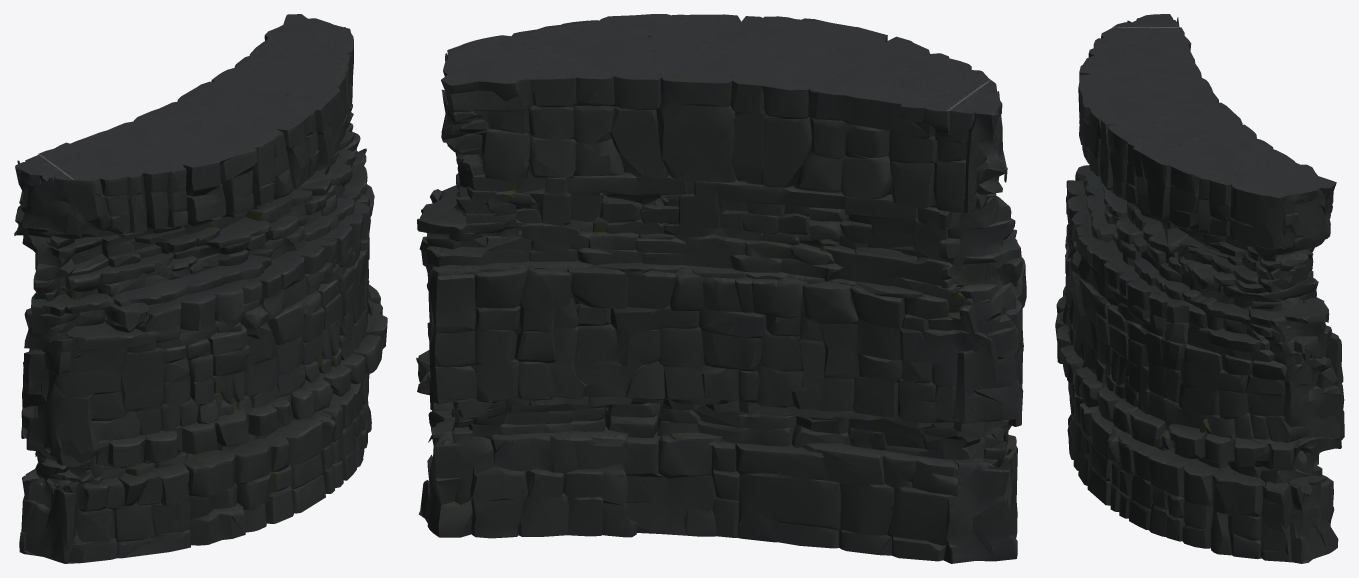
Rendered from Waterfall_Rock_Ledge.glb.
The picture shows the model from 3 angles, left to right: view 1: azimuth 30°, elevation 25°; view 2: azimuth 150°, elevation 25°; view 3: azimuth 270°, elevation 25°; orthographic projection. The views are drawn at different scales.
Bounding box in the file's own units: 1.9 × 1.63 × 1.18.
1 material, 1 textured.
